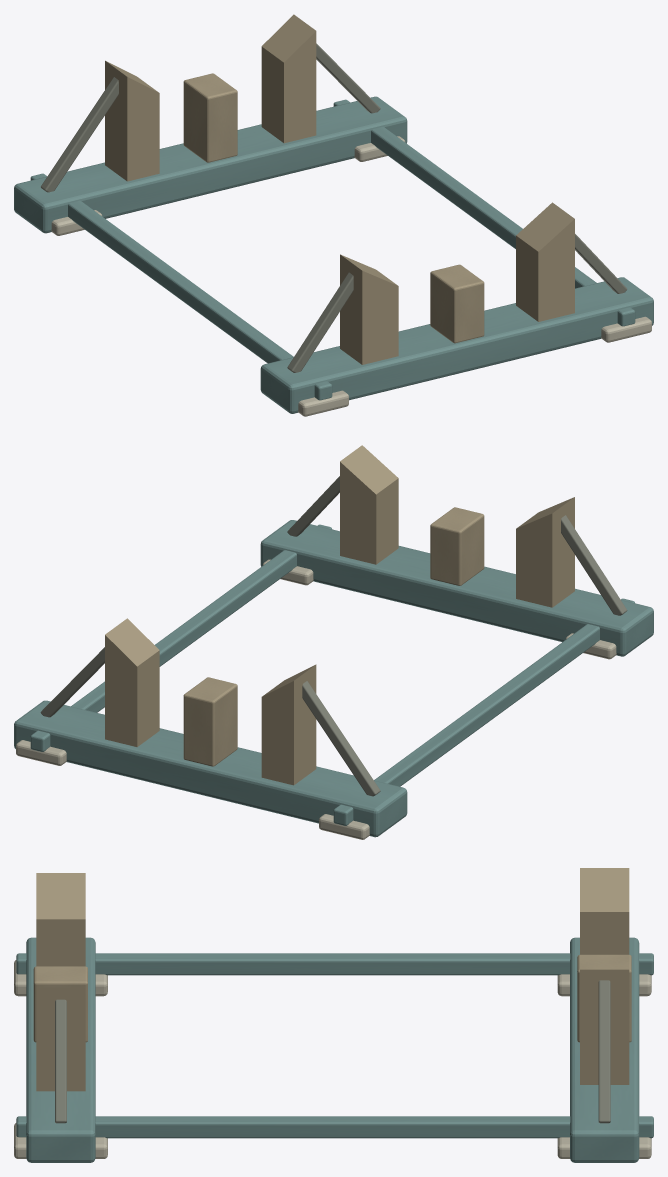
The model's file is Boat_Cradle.glb.
3 views of the same model, one above another, from view 1: azimuth 30°, elevation 25°; view 2: azimuth 150°, elevation 25°; view 3: azimuth 270°, elevation 25° (orthographic). The views are drawn at different scales.
Visible parts, largest first — view 1: Boat_Cradle; view 2: Boat_Cradle; view 3: Boat_Cradle.
Boxes of the visible parts, left/top/right/bottom form: Boat_Cradle: left=14, top=14, right=653, bottom=416; Boat_Cradle: left=14, top=445, right=653, bottom=839; Boat_Cradle: left=14, top=868, right=653, bottom=1162.
Bounding box in the file's own units: 4.7 × 1.65 × 6.47.
Materials: 4 (3 with a texture image).
